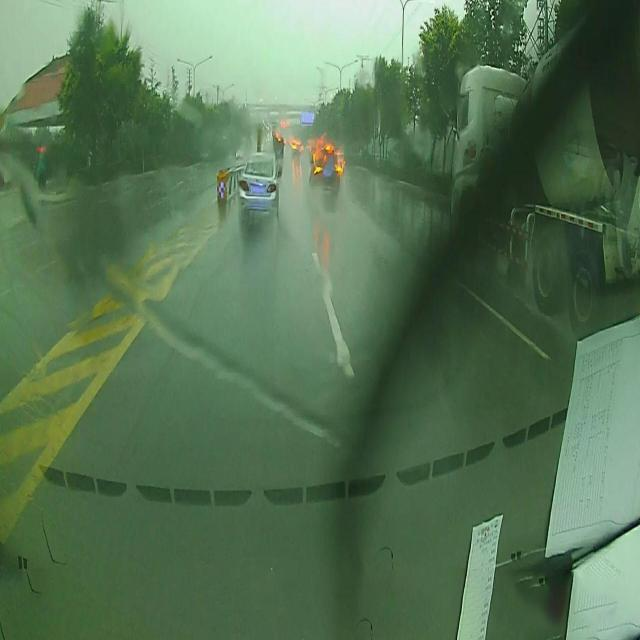car: (238, 156, 278, 223), (310, 141, 344, 203)
